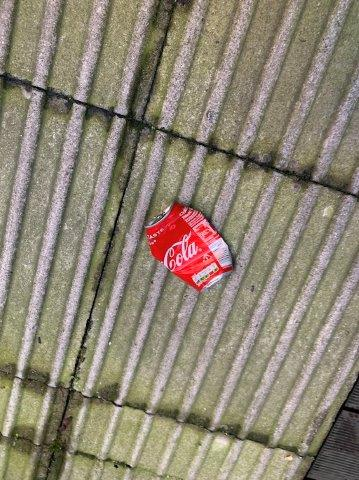kaleng: (148, 204, 232, 290)
